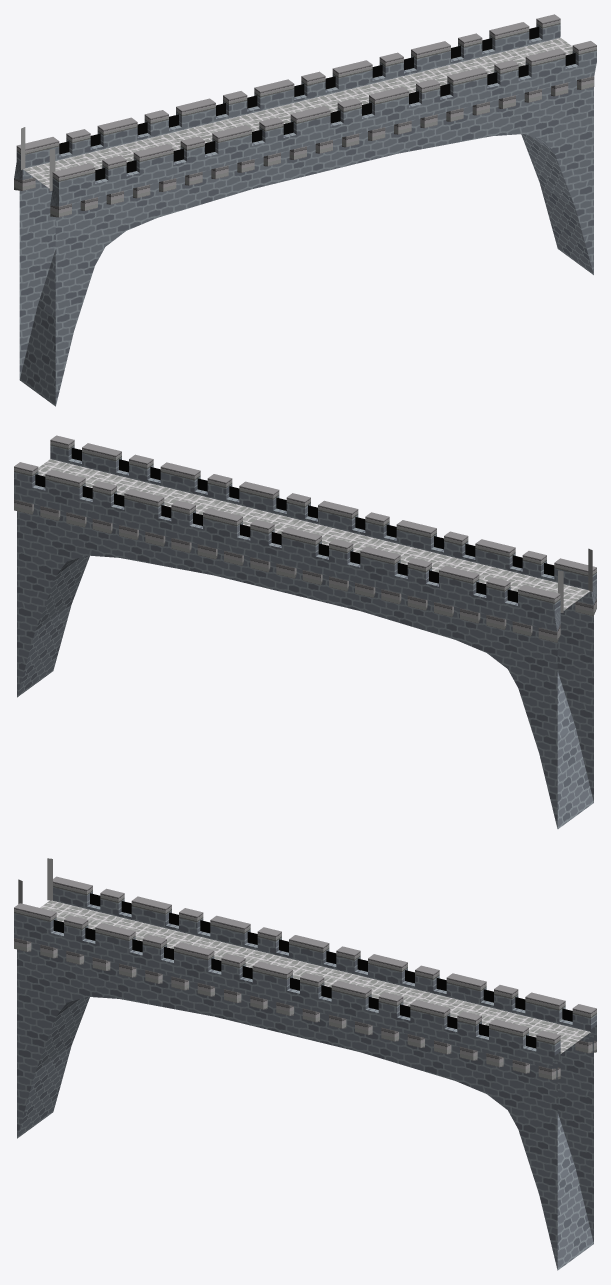
Rendered from puente.gltf.
The picture shows the model from 3 angles, top to bottom: view 1: azimuth 30°, elevation 25°; view 2: azimuth 150°, elevation 25°; view 3: azimuth 330°, elevation 25°; orthographic projection.
Visible parts, largest first — view 1: polySurface856_q00180, polySurface854_q00173_part0, polySurface854_q00173_part1, polySurface852_q00171_part0, polySurface447_q00179, polySurface852_q00171_part1, polySurface855_q00174, polySurface853_q00172; view 2: polySurface856_q00180, polySurface852_q00171_part0, polySurface852_q00171_part1, polySurface854_q00173_part0, polySurface447_q00179, polySurface854_q00173_part1, polySurface853_q00172, polySurface855_q00174; view 3: polySurface856_q00180, polySurface854_q00173_part0, polySurface854_q00173_part1, polySurface447_q00179, polySurface852_q00171_part0, polySurface852_q00171_part1, polySurface855_q00174, polySurface853_q00172.
Boxes of the visible parts, x1=… form: polySurface856_q00180: x1=19, y1=80, x2=593, y2=406; polySurface854_q00173_part0: x1=50, y1=50, x2=596, y2=206; polySurface854_q00173_part1: x1=50, y1=41, x2=596, y2=217; polySurface852_q00171_part0: x1=14, y1=24, x2=560, y2=179; polySurface447_q00179: x1=23, y1=38, x2=572, y2=188; polySurface852_q00171_part1: x1=14, y1=14, x2=560, y2=190; polySurface855_q00174: x1=95, y1=53, x2=575, y2=180; polySurface853_q00172: x1=59, y1=26, x2=539, y2=154; polySurface856_q00180: x1=17, y1=504, x2=593, y2=828; polySurface852_q00171_part0: x1=14, y1=472, x2=560, y2=631; polySurface852_q00171_part1: x1=14, y1=462, x2=560, y2=642; polySurface854_q00173_part0: x1=50, y1=445, x2=596, y2=605; polySurface447_q00179: x1=38, y1=459, x2=590, y2=610; polySurface854_q00173_part1: x1=50, y1=435, x2=596, y2=616; polySurface853_q00172: x1=35, y1=474, x2=517, y2=602; polySurface855_q00174: x1=71, y1=447, x2=554, y2=575; polySurface856_q00180: x1=17, y1=942, x2=593, y2=1270; polySurface854_q00173_part0: x1=14, y1=913, x2=560, y2=1068; polySurface854_q00173_part1: x1=14, y1=903, x2=560, y2=1079; polySurface447_q00179: x1=40, y1=900, x2=590, y2=1053; polySurface852_q00171_part0: x1=53, y1=887, x2=596, y2=1042; polySurface852_q00171_part1: x1=53, y1=876, x2=596, y2=1053; polySurface855_q00174: x1=53, y1=920, x2=536, y2=1048; polySurface853_q00172: x1=90, y1=893, x2=572, y2=1021.
Bounding box in the file's own units: 104 × 46.63 × 14.
